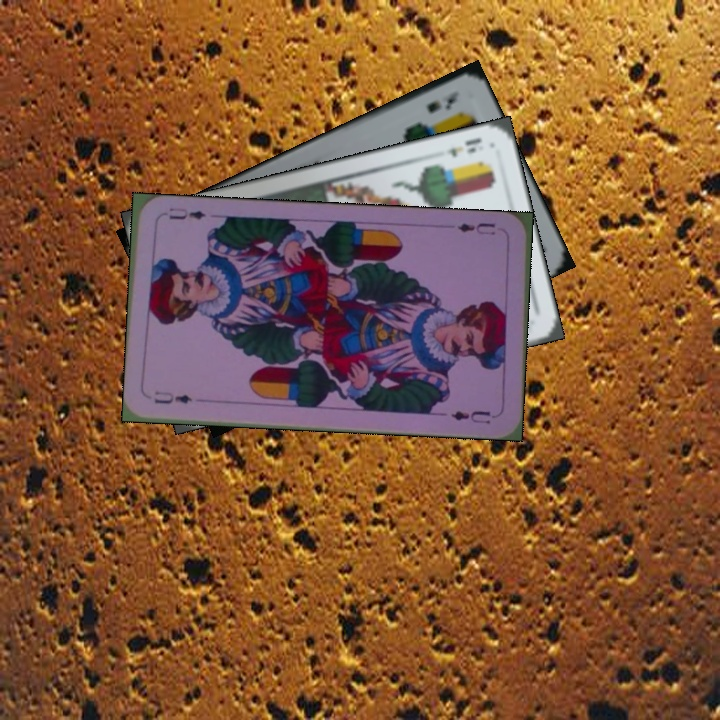EK: (431, 133, 484, 161), (422, 87, 463, 116)
EU: (150, 387, 195, 407), (454, 219, 498, 238)
